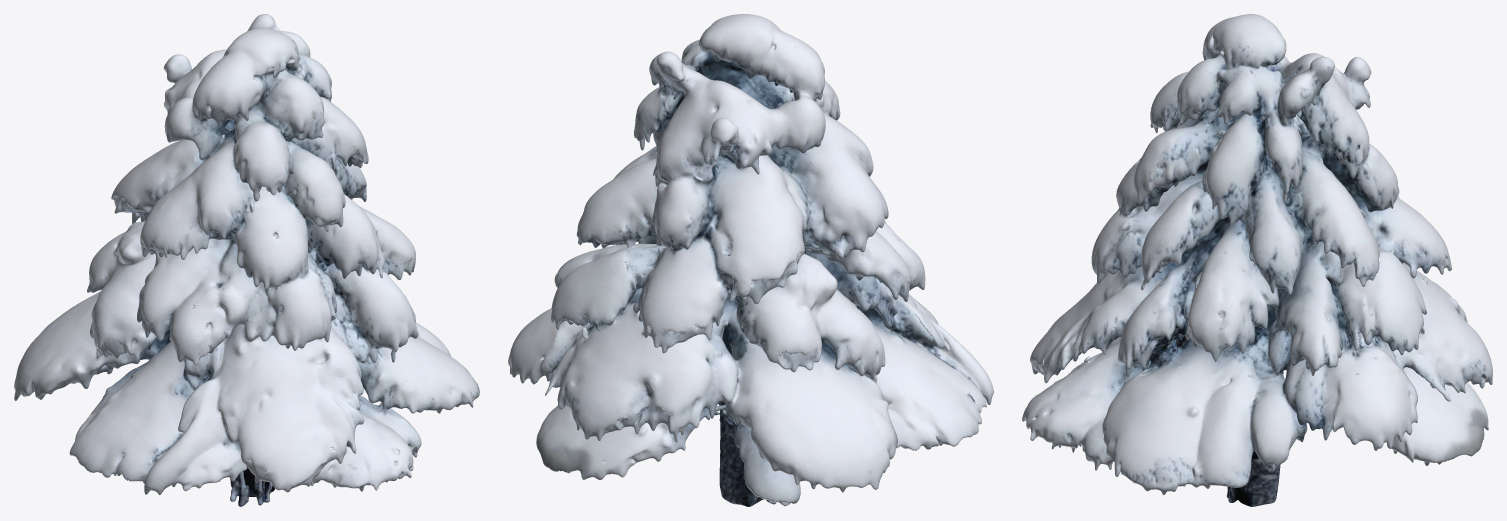
The model's file is Tree_Snow.fbx.
3 views of the same model, side by side, from view 1: azimuth 30°, elevation 25°; view 2: azimuth 150°, elevation 25°; view 3: azimuth 270°, elevation 25° (orthographic). The views are drawn at different scales.
Parts seen in each view (by area): view 1: tripo_node_732f7e66; view 2: tripo_node_732f7e66; view 3: tripo_node_732f7e66.
Boxes of the visible parts, x1,y1,x2,y2 form: tripo_node_732f7e66: [14, 14, 479, 506]; tripo_node_732f7e66: [508, 14, 993, 506]; tripo_node_732f7e66: [1022, 14, 1492, 506].
Bounding box in the file's own units: 0.8463 × 1 × 0.882.
